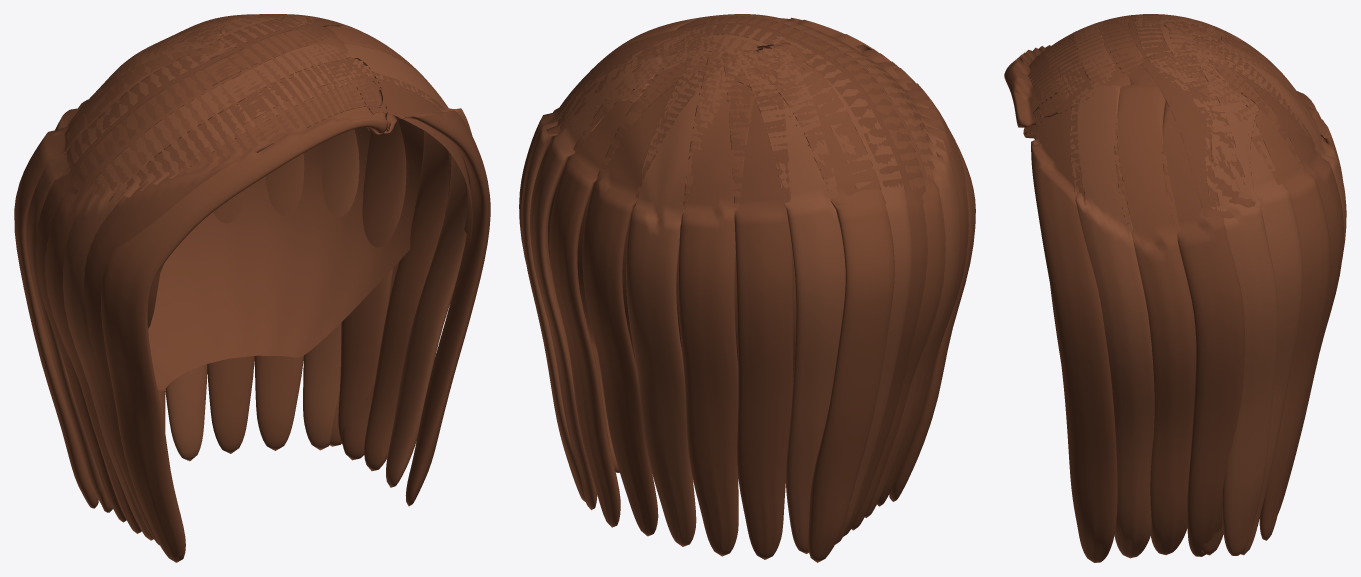
File: Feminine-straight-headband261-hair.glb
3 renders of one model, left to right at view 1: azimuth 30°, elevation 25°; view 2: azimuth 150°, elevation 25°; view 3: azimuth 270°, elevation 25°, orthographic. The views are drawn at different scales.
Visible parts, largest first — view 1: 226 hair / Hair / sculpted 0.001, 226 hair / Hair / sculpted 1.002, 226 hair / Hair / sculpted 2.001, 226 hair / Hair / sculpted 1.001; view 2: 226 hair / Hair / sculpted 0.001, 226 hair / Hair / sculpted 2.001, 226 hair / Hair / sculpted 1.002, 226 hair / Hair / sculpted 1.001; view 3: 226 hair / Hair / sculpted 1.002, 226 hair / Hair / sculpted 2.001, 226 hair / Hair / sculpted 0.001.
Part boxes in pixels (x1=…): 226 hair / Hair / sculpted 0.001: x1=14, y1=14, x2=449, y2=562; 226 hair / Hair / sculpted 1.002: x1=35, y1=14, x2=490, y2=545; 226 hair / Hair / sculpted 2.001: x1=26, y1=14, x2=472, y2=540; 226 hair / Hair / sculpted 1.001: x1=147, y1=117, x2=472, y2=390; 226 hair / Hair / sculpted 0.001: x1=549, y1=14, x2=975, y2=562; 226 hair / Hair / sculpted 2.001: x1=521, y1=14, x2=960, y2=553; 226 hair / Hair / sculpted 1.002: x1=519, y1=14, x2=968, y2=559; 226 hair / Hair / sculpted 1.001: x1=548, y1=168, x2=796, y2=376; 226 hair / Hair / sculpted 1.002: x1=1020, y1=14, x2=1343, y2=562; 226 hair / Hair / sculpted 2.001: x1=1046, y1=14, x2=1346, y2=558; 226 hair / Hair / sculpted 0.001: x1=1004, y1=14, x2=1342, y2=554.
Bounding box in the file's own units: 1.02 × 1.17 × 0.7721.
